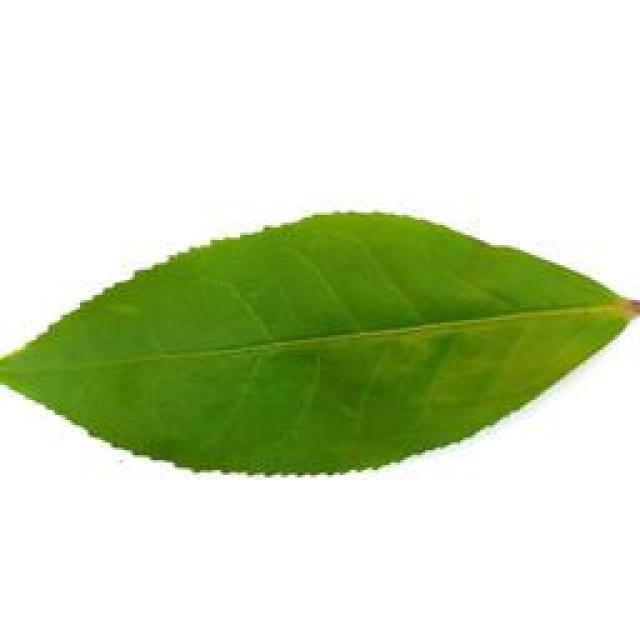Healthy: (0, 205, 640, 484)
